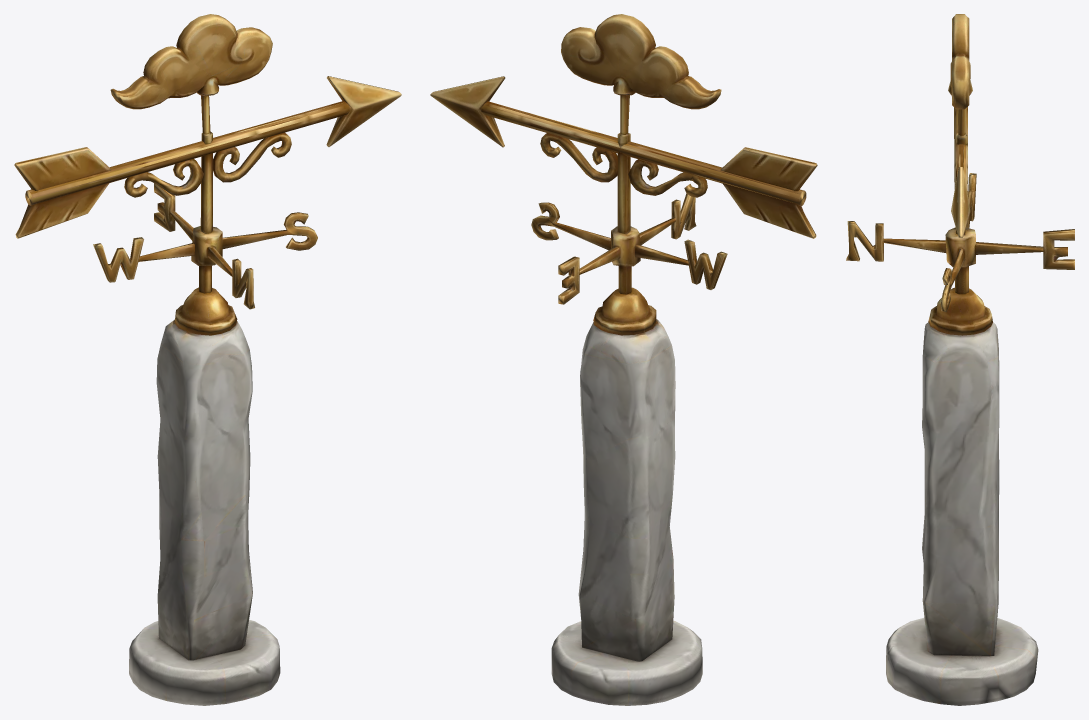
Rendered from vane.glb.
The picture shows the model from 3 angles, left to right: view 1: azimuth 30°, elevation 25°; view 2: azimuth 150°, elevation 25°; view 3: azimuth 270°, elevation 25°; orthographic projection.
Size of the model in its own units: 0.6142 by 1 by 0.3156.
1 material, 1 textured.
